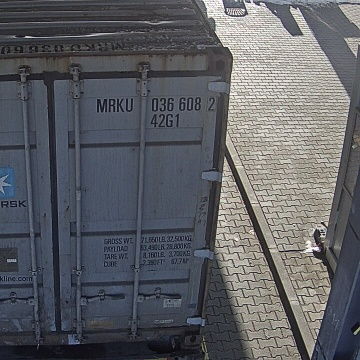serial_id: (97, 97, 214, 112)
